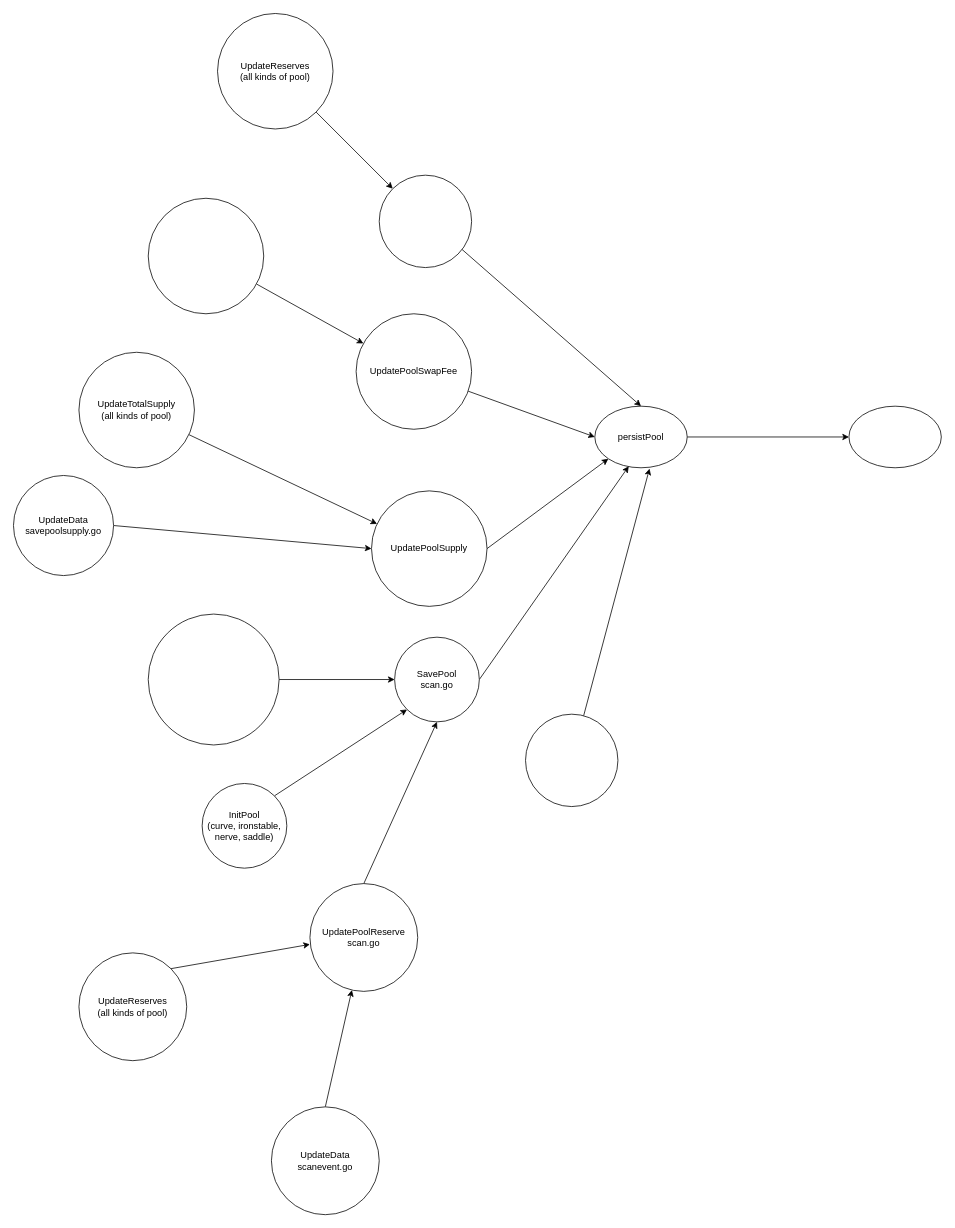
This 955x1228 diagram has some shape labels left out. Each missing label, with the centre of its shape:
update Sorted Sets: the point at 894,436
UpdateData savepool.go: the point at 571,760
UpdateNewPools (uniswap, uniswapv3, promm, balancer, dodo, firebird, oneswap): the point at 213,679
UpdatePoolExtra: the point at 425,221
updateReservesFunc (polydex, biswap): the point at 205,256
